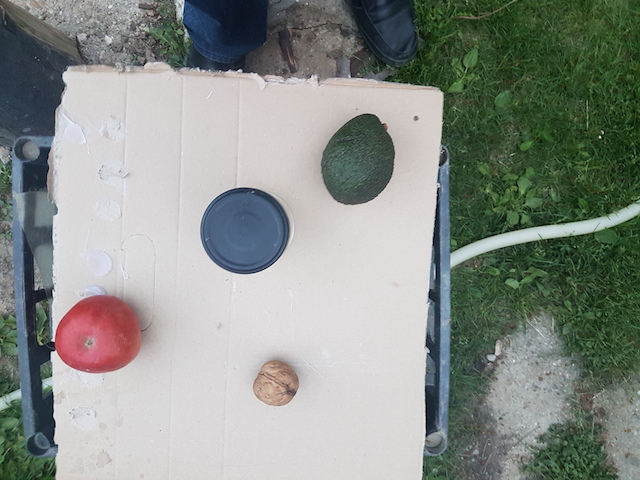apple: (55, 291, 148, 374)
avocado: (319, 107, 400, 206)
nut: (252, 360, 302, 408)
recipient: (197, 184, 289, 276)
